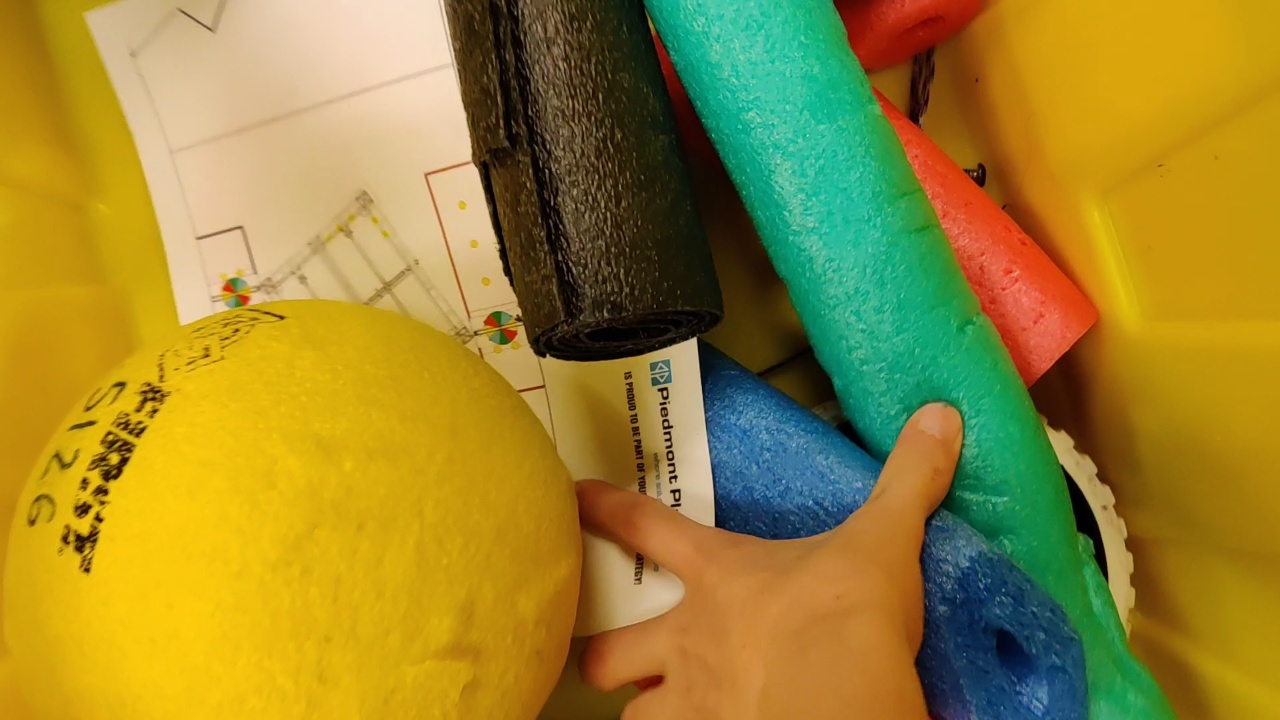Ball: (2, 298, 591, 720)
